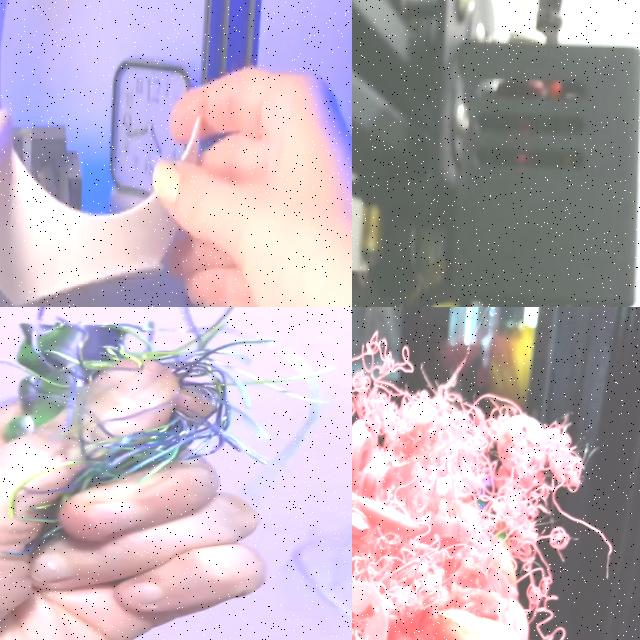spaghetti: (0, 307, 352, 640), (352, 324, 636, 640)
